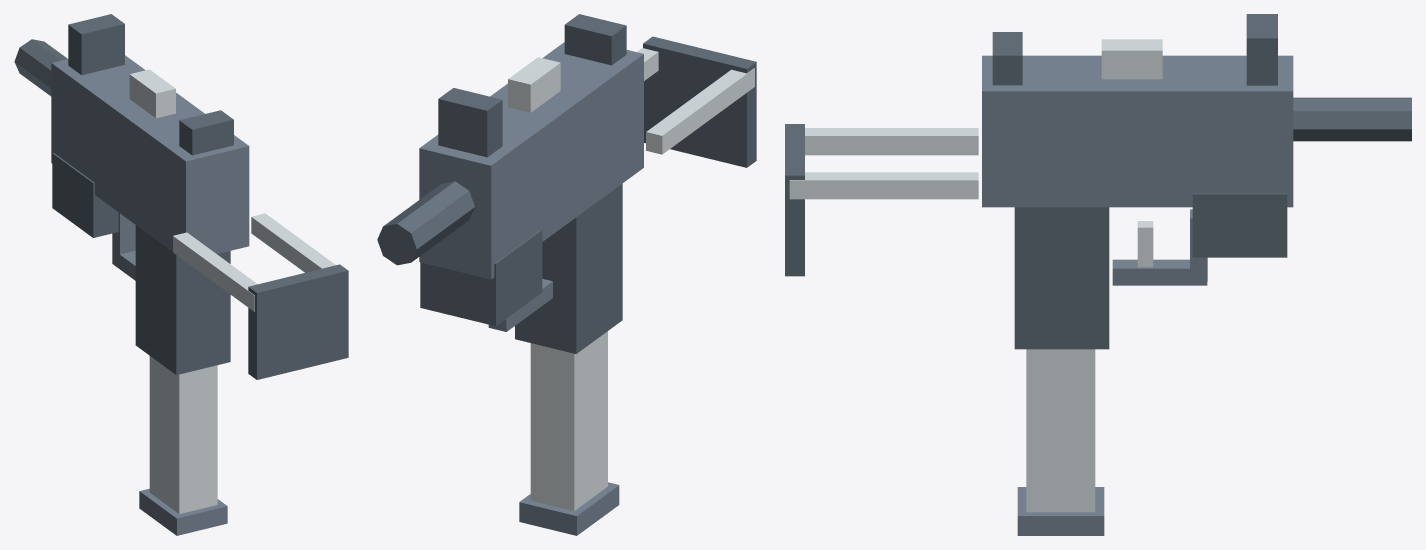
Rendered from smg.glb.
The picture shows the model from 3 angles, left to right: view 1: azimuth 30°, elevation 25°; view 2: azimuth 150°, elevation 25°; view 3: azimuth 270°, elevation 25°; orthographic projection. The views are drawn at different scales.
Visible parts, largest first — view 1: Stamped_Receiver, Pistol_Grip, Extended_Magazine, Stock_Butt, Folding_Stock_Rail (×2), Front_Grip_Block, Front_Sight, Magazine_Floorplate, Rear_Sight, Charging_Handle, Short_Barrel, Guard_Front (+1 smaller); view 2: Stamped_Receiver, Extended_Magazine, Pistol_Grip, Stock_Butt, Front_Grip_Block, Short_Barrel, Front_Sight, Folding_Stock_Rail, Magazine_Floorplate, Rear_Sight, Charging_Handle, Trigger_Guard; view 3: Stamped_Receiver, Pistol_Grip, Extended_Magazine, Folding_Stock_Rail (×2), Front_Grip_Block, Short_Barrel, Stock_Butt, Magazine_Floorplate, Charging_Handle, Front_Sight, Trigger_Guard, Rear_Sight (+1 smaller).
Boxes of the visible parts, x1,y1,x2,y2 form: Stamped_Receiver: (51, 55, 249, 253); Pistol_Grip: (135, 225, 230, 374); Extended_Magazine: (149, 356, 217, 513); Stock_Butt: (248, 264, 348, 379); Folding_Stock_Rail (×2): (173, 213, 335, 311); Front_Grip_Block: (52, 153, 118, 237); Front_Sight: (68, 14, 124, 75); Magazine_Floorplate: (139, 488, 227, 535); Rear_Sight: (179, 110, 233, 155); Charging_Handle: (129, 69, 175, 118); Short_Barrel: (14, 39, 67, 96); Guard_Front: (112, 213, 135, 265); Stamped_Receiver: (419, 42, 643, 279); Extended_Magazine: (530, 331, 607, 510); Pistol_Grip: (515, 183, 622, 353); Stock_Butt: (643, 36, 756, 167); Front_Grip_Block: (420, 229, 542, 326); Short_Barrel: (377, 181, 474, 265); Front_Sight: (438, 88, 502, 157); Folding_Stock_Rail: (646, 68, 754, 154); Magazine_Floorplate: (519, 482, 619, 535); Rear_Sight: (564, 14, 626, 65); Charging_Handle: (508, 57, 560, 112); Trigger_Guard: (488, 279, 552, 331); Stamped_Receiver: (982, 55, 1293, 207); Pistol_Grip: (1014, 207, 1109, 349); Extended_Magazine: (1026, 349, 1095, 512); Folding_Stock_Rail (×2): (789, 128, 978, 199); Front_Grip_Block: (1192, 193, 1287, 257); Short_Barrel: (1293, 97, 1411, 141); Stock_Butt: (785, 124, 804, 276); Magazine_Floorplate: (1017, 487, 1104, 535); Charging_Handle: (1101, 39, 1162, 79); Front_Sight: (1246, 14, 1277, 85); Trigger_Guard: (1112, 259, 1207, 285); Rear_Sight: (992, 32, 1022, 85).
Bounding box in the file's own units: 0.111 × 0.4915 × 0.5635.
